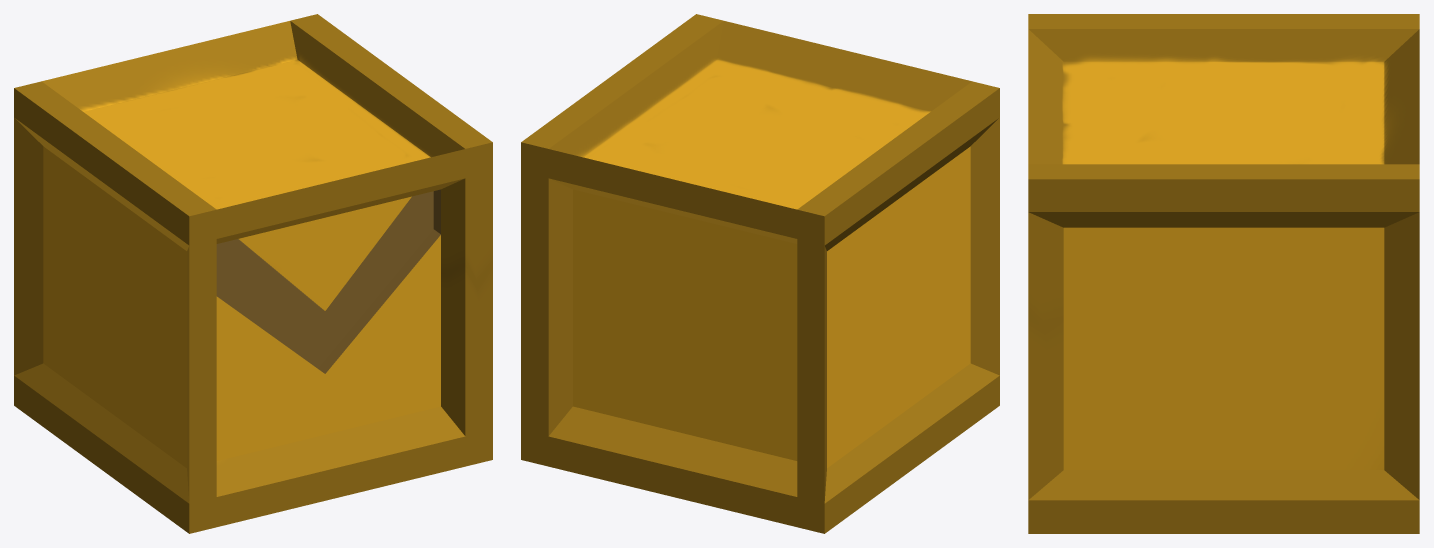
The model's file is Crate.fbx.
3 views of the same model, side by side, from view 1: azimuth 30°, elevation 25°; view 2: azimuth 150°, elevation 25°; view 3: azimuth 270°, elevation 25° (orthographic). The views are drawn at different scales.
Parts seen in each view (by area): view 1: Crate; view 2: Crate; view 3: Crate.
Boxes of the visible parts, box(x1,y1,x2,y2) form: Crate: box(14, 14, 492, 533); Crate: box(521, 14, 999, 533); Crate: box(1028, 14, 1419, 533).
Size of the model in its own units: 35.34 by 35.34 by 35.34.
